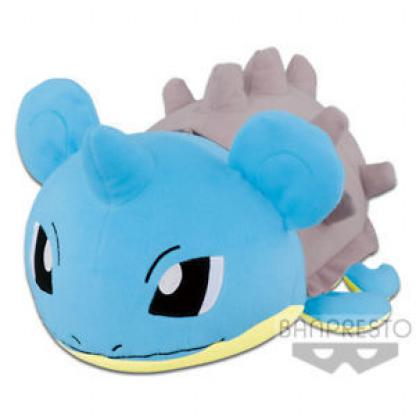Lapras: (1, 37, 416, 405)
